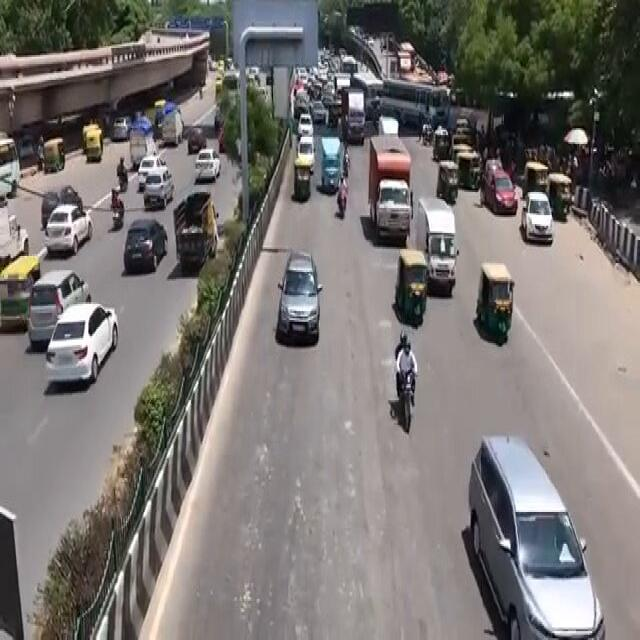three_wheeler: (389, 236, 431, 342)
